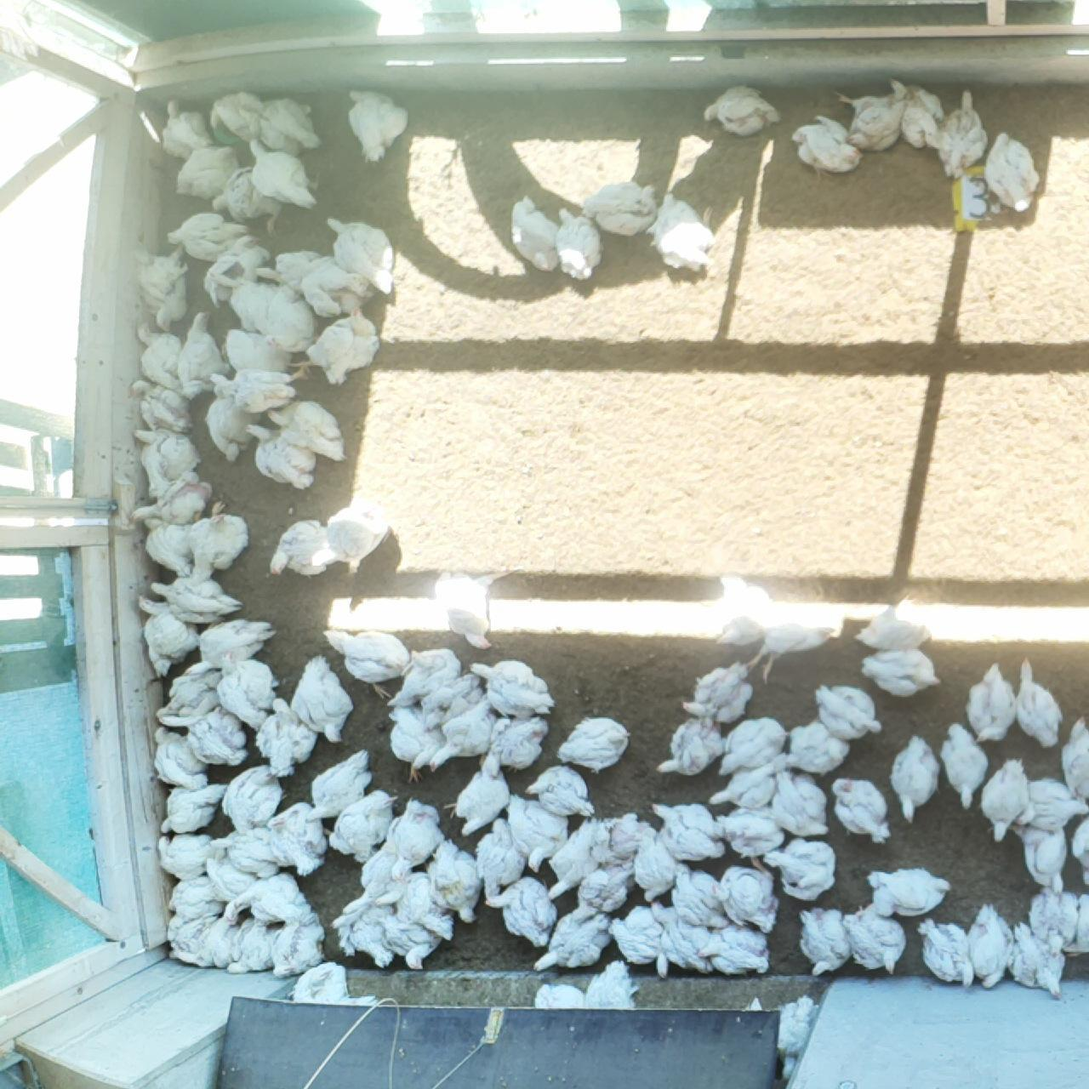chicken: (289, 309, 383, 389), (527, 900, 624, 977), (321, 623, 415, 696), (342, 834, 419, 917), (383, 700, 460, 783), (708, 564, 782, 650), (547, 814, 620, 901), (288, 652, 355, 746), (738, 621, 844, 680), (262, 391, 346, 465), (312, 505, 394, 580), (324, 211, 397, 295), (1000, 918, 1071, 1004), (433, 561, 501, 650), (429, 698, 509, 773), (450, 744, 510, 842), (754, 993, 819, 1083), (209, 164, 288, 238), (185, 613, 275, 677), (366, 902, 449, 971), (304, 748, 376, 827), (466, 652, 554, 716), (708, 858, 781, 935), (499, 790, 567, 872), (838, 78, 911, 154), (377, 868, 453, 941), (832, 904, 909, 976), (155, 656, 230, 729), (217, 645, 282, 729), (129, 427, 204, 499), (999, 775, 1089, 835), (325, 787, 396, 863), (171, 309, 228, 403), (426, 834, 484, 926), (1014, 655, 1069, 752), (132, 592, 197, 674), (248, 136, 320, 210), (241, 419, 316, 490), (344, 82, 410, 162), (144, 575, 247, 626), (127, 471, 216, 530), (183, 505, 250, 583), (762, 834, 840, 901), (608, 904, 674, 982), (678, 658, 757, 723), (267, 801, 332, 879), (982, 130, 1043, 213), (711, 804, 790, 868), (647, 801, 731, 861), (227, 868, 312, 927), (938, 721, 994, 810), (385, 795, 444, 879), (865, 864, 955, 919), (266, 517, 347, 578), (506, 189, 564, 274), (850, 592, 935, 650), (210, 232, 270, 314), (665, 861, 737, 929), (964, 900, 1015, 995), (964, 661, 1021, 746), (934, 89, 989, 177), (700, 81, 782, 140), (483, 877, 553, 946), (884, 77, 949, 150), (916, 914, 978, 990), (222, 763, 289, 833), (648, 900, 713, 972), (553, 712, 632, 771), (297, 257, 372, 319), (828, 774, 894, 844), (658, 714, 729, 779), (768, 766, 832, 838), (339, 890, 398, 968), (582, 960, 641, 1038), (174, 707, 250, 767), (695, 920, 775, 977), (716, 715, 788, 778), (165, 211, 250, 264), (221, 321, 300, 378), (1012, 819, 1069, 898), (138, 245, 190, 331), (387, 650, 465, 707), (474, 815, 526, 900), (262, 280, 320, 356), (981, 754, 1031, 842), (247, 96, 324, 153), (791, 113, 857, 179), (156, 780, 233, 836), (254, 698, 310, 775), (418, 670, 485, 734), (289, 959, 352, 1027), (890, 735, 938, 824), (646, 186, 707, 256), (136, 321, 192, 397), (796, 901, 852, 976), (527, 981, 586, 1052), (224, 914, 288, 979), (815, 680, 883, 741), (174, 140, 243, 200), (780, 718, 855, 773), (629, 824, 682, 901), (857, 644, 942, 692), (710, 758, 779, 816), (212, 368, 297, 415), (268, 908, 325, 978), (583, 181, 654, 237), (478, 715, 549, 770), (126, 376, 192, 435), (257, 247, 331, 299), (137, 508, 196, 573), (1025, 885, 1076, 959), (203, 394, 260, 460), (151, 724, 210, 787), (592, 812, 656, 870), (528, 765, 598, 818), (213, 272, 278, 329), (553, 207, 604, 278), (158, 830, 223, 884), (655, 219, 716, 276), (161, 96, 215, 160), (577, 861, 639, 914), (212, 825, 277, 874), (202, 851, 262, 904), (166, 906, 218, 964), (210, 86, 264, 141), (164, 873, 227, 920), (196, 914, 247, 972), (1058, 713, 1089, 807), (1064, 885, 1089, 964), (1065, 809, 1089, 889)
